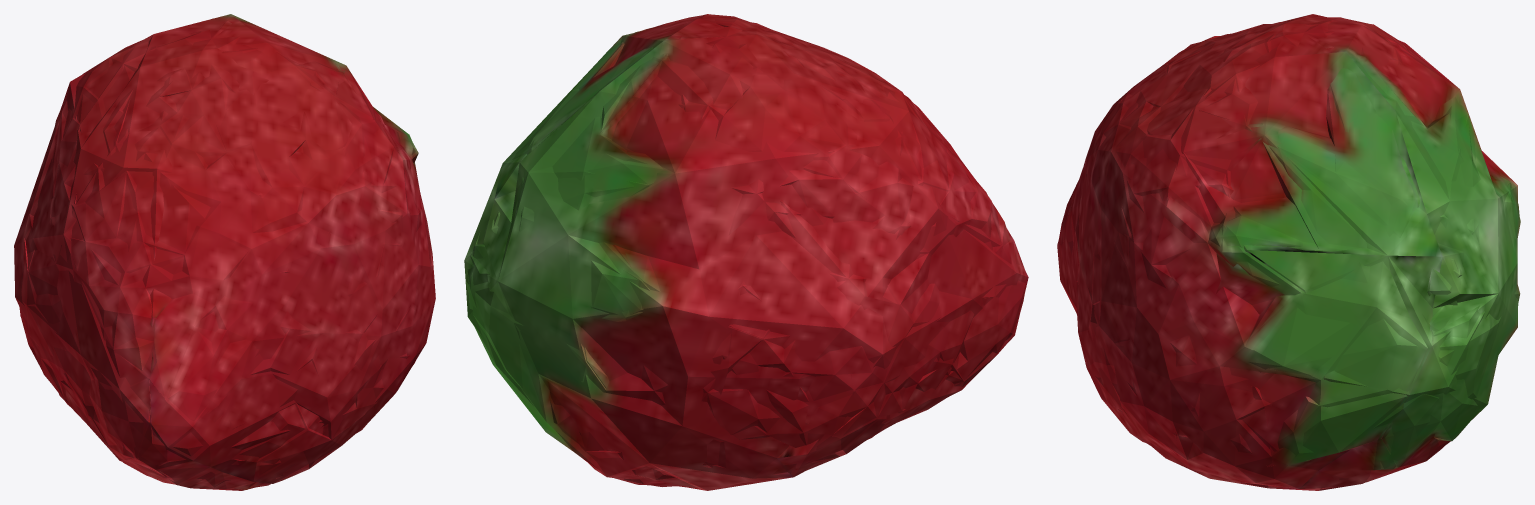
Rendered from imp-strawberries.glb.
3 renders of one model, left to right at view 1: azimuth 30°, elevation 25°; view 2: azimuth 150°, elevation 25°; view 3: azimuth 270°, elevation 25°, orthographic. The views are drawn at different scales.
Parts seen in each view (by area): view 1: textured.obj (×3); view 2: textured.obj (×3); view 3: textured.obj (×3).
Boxes of the visible parts, x1=… form: textured.obj (×3): x1=14, y1=14, x2=435, y2=490; textured.obj (×3): x1=464, y1=14, x2=1028, y2=490; textured.obj (×3): x1=1057, y1=14, x2=1520, y2=490.
Bounding box in the file's own units: 0.0346 × 0.035 × 0.0348.
1 material, 1 textured.
